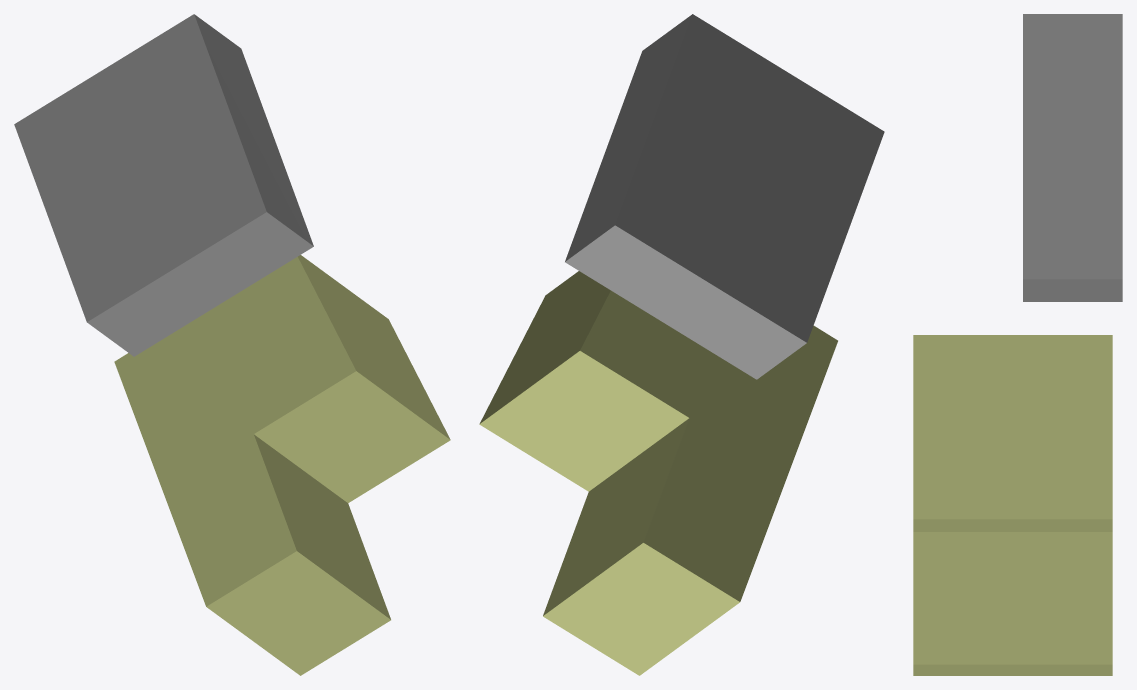
3 renders of one model, left to right at view 1: azimuth 30°, elevation 25°; view 2: azimuth 150°, elevation 25°; view 3: azimuth 270°, elevation 25°, orthographic. The views are drawn at different scales.
Parts seen in each view (by area): view 1: 0_1_0_2_0_2_0_3_2_0; view 2: 0_1_0_2_0_2_0_3_2_0; view 3: 0_1_0_2_0_2_0_3_2_0.
Part boxes in pixels (box(x1,y1,x2,y2)): 0_1_0_2_0_2_0_3_2_0: box(14, 14, 450, 675); 0_1_0_2_0_2_0_3_2_0: box(479, 14, 884, 675); 0_1_0_2_0_2_0_3_2_0: box(913, 14, 1122, 675).
Size of the model in its own units: 12.38 by 20.72 by 6.3.
